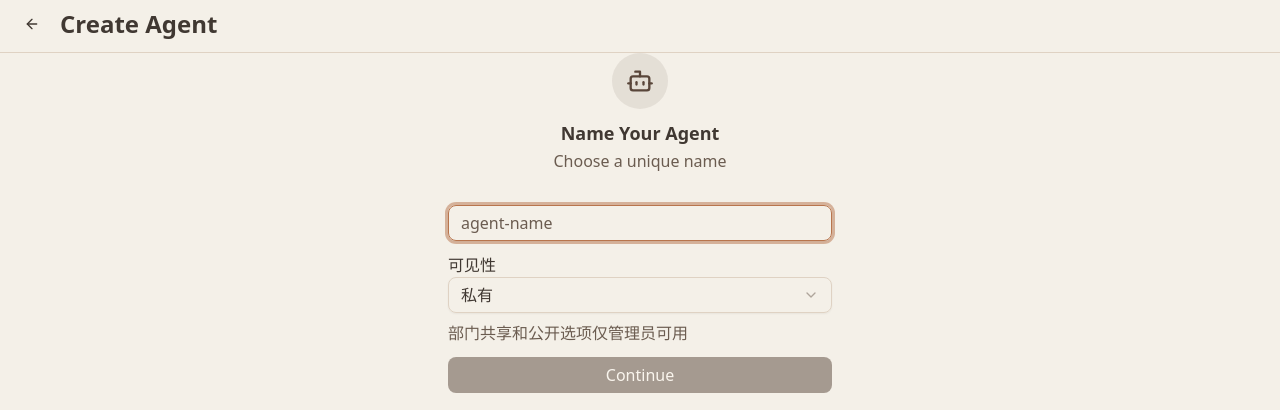
Scenario: NewAgentPage › Name input behavior › continue button is enabled when input has value
Type "my-agent" into the field with placeholder "agent-name" at (640, 223), box [448,205,832,241]
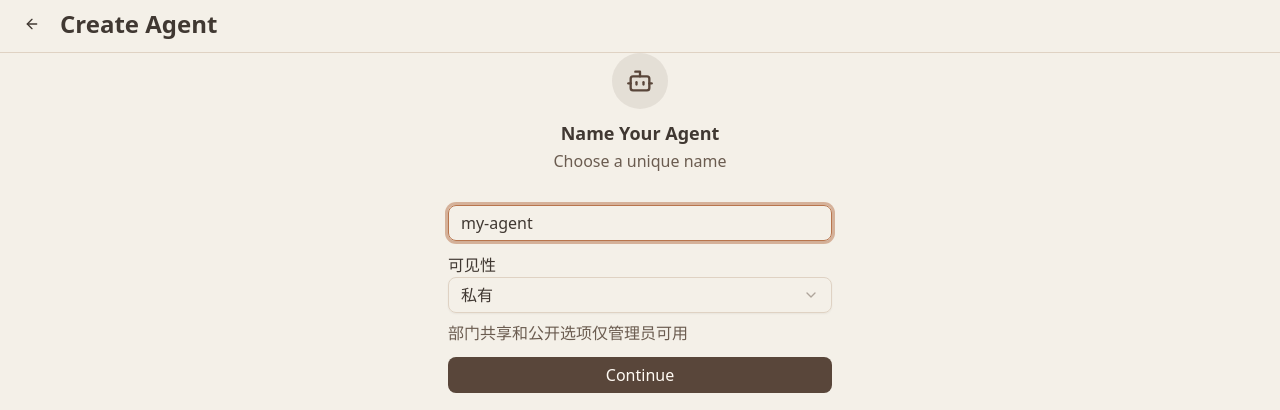
Now the button "Continue" is enabled, box [448,357,832,393]
